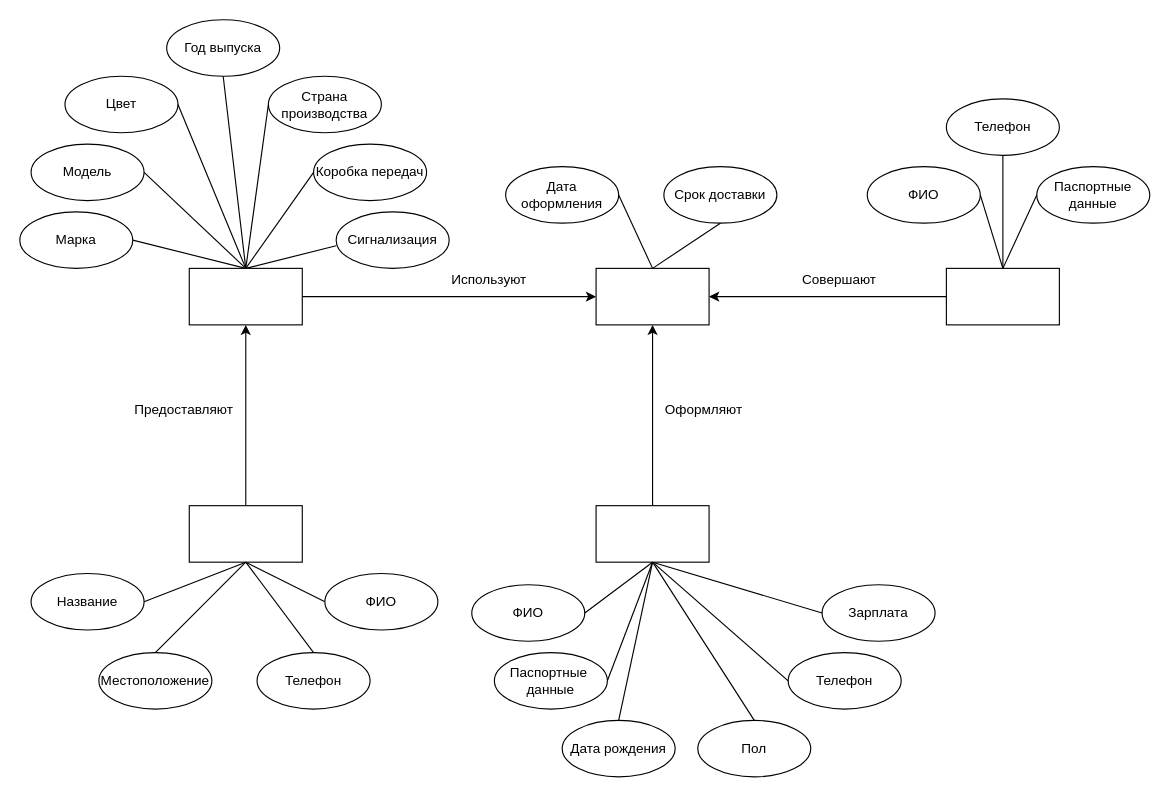
This 1170x797 diagram has some shape labels left out. The centre of each missing label's shape, as x and y in pixels:
Авто: the point at 245,296
Заказы: the point at 652,296
Менеджеры: the point at 652,533
Покупатели: the point at 1002,296
Филиалы: the point at 245,533
